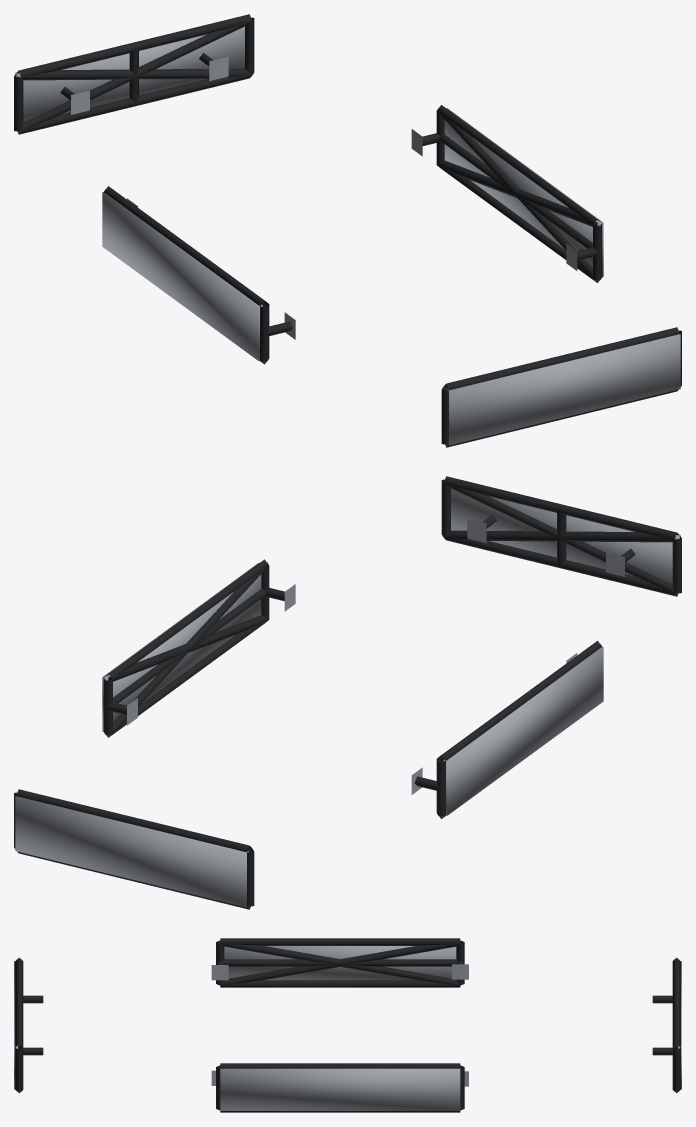
The model's file is whitlock_seta_protecao.glb.
3 views of the same model, one above another, from view 1: azimuth 30°, elevation 25°; view 2: azimuth 150°, elevation 25°; view 3: azimuth 270°, elevation 25° (orthographic). The views are drawn at different scales.
Visible parts, largest first — view 1: Protection_front_Level3_Details, Protection_left_Level3_Details, Protection_rear_Level1_Details, Protection_rear_Level3_Details, Protection_right_Level1_Details, Protection_rear_Level2_Details, Protection_right_Level2_Details, Protection_right_Level3_Details, Protection_front_Level1_Details, Protection_left_Level1_Details; view 2: Protection_rear_Level3_Details, Protection_left_Level3_Details, Protection_front_Level1_Details, Protection_front_Level3_Details, Protection_right_Level1_Details, Protection_front_Level2_Details, Protection_right_Level2_Details, Protection_right_Level3_Details, Protection_rear_Level1_Details, Protection_left_Level1_Details; view 3: Protection_right_Level3_Details, Protection_left_Level2_Details, Protection_left_Level1_Details, Protection_left_Level3_Details, Protection_right_Level1_Details, Protection_rear_Level1_Details, Protection_front_Level1_Details.
Boxes of the visible parts, x1,y1,x2,y2 form: Protection_front_Level3_Details: (447, 334, 680, 445); Protection_left_Level3_Details: (102, 192, 262, 360); Protection_rear_Level1_Details: (14, 14, 254, 134); Protection_rear_Level3_Details: (15, 26, 244, 122); Protection_right_Level1_Details: (411, 105, 602, 282); Protection_rear_Level2_Details: (16, 21, 251, 133); Protection_right_Level2_Details: (437, 111, 601, 282); Protection_right_Level3_Details: (444, 108, 603, 277); Protection_front_Level1_Details: (441, 327, 681, 447); Protection_left_Level1_Details: (104, 186, 295, 364); Protection_rear_Level3_Details: (15, 796, 248, 907); Protection_left_Level3_Details: (443, 646, 603, 815); Protection_front_Level1_Details: (441, 476, 681, 596); Protection_front_Level3_Details: (451, 488, 680, 584); Protection_right_Level1_Details: (103, 559, 295, 737); Protection_front_Level2_Details: (444, 483, 679, 595); Protection_right_Level2_Details: (105, 566, 268, 736); Protection_right_Level3_Details: (102, 563, 261, 731); Protection_rear_Level1_Details: (14, 789, 254, 909); Protection_left_Level1_Details: (411, 641, 601, 818); Protection_right_Level3_Details: (220, 1068, 460, 1110); Protection_left_Level2_Details: (219, 941, 460, 985); Protection_left_Level1_Details: (211, 938, 468, 987); Protection_left_Level3_Details: (224, 946, 456, 980); Protection_right_Level1_Details: (211, 1063, 468, 1112); Protection_rear_Level1_Details: (652, 957, 680, 1093); Protection_front_Level1_Details: (15, 957, 43, 1093).
Bounding box in the file's own units: 1.99 × 0.354 × 4.34.
1 material, 1 textured.
